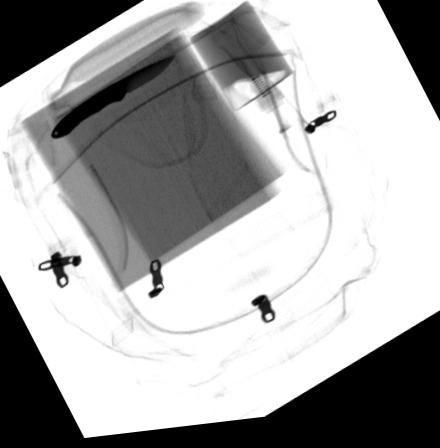Knife: (49, 57, 177, 141)
